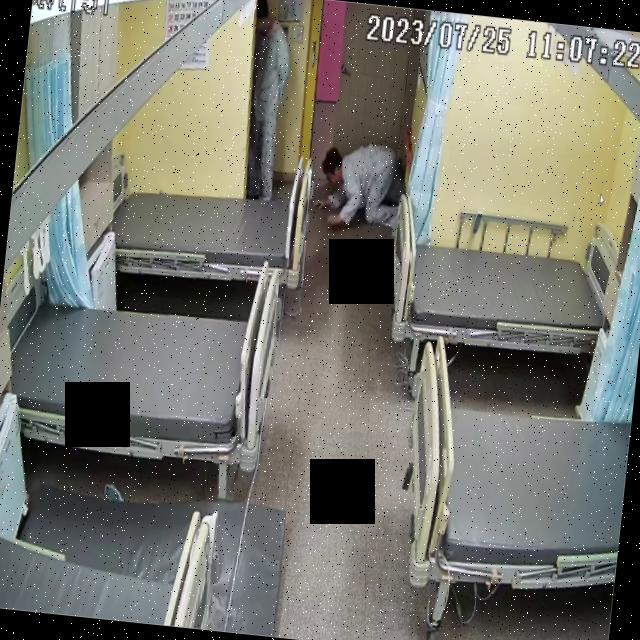bed: (393, 334, 638, 602), (1, 286, 278, 465), (380, 220, 626, 363), (110, 171, 308, 288)
fall: (311, 138, 411, 241)
patient: (234, 0, 294, 199), (310, 142, 410, 241)
